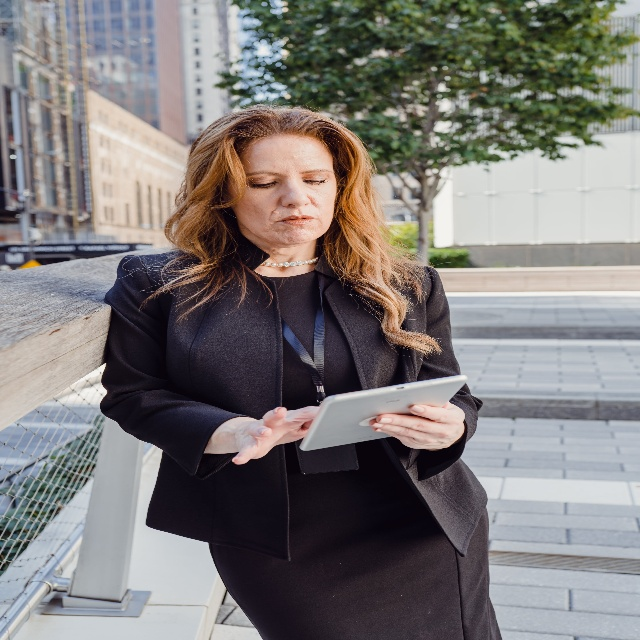Sin_guantes: (232, 406, 320, 465), (369, 400, 465, 451)
